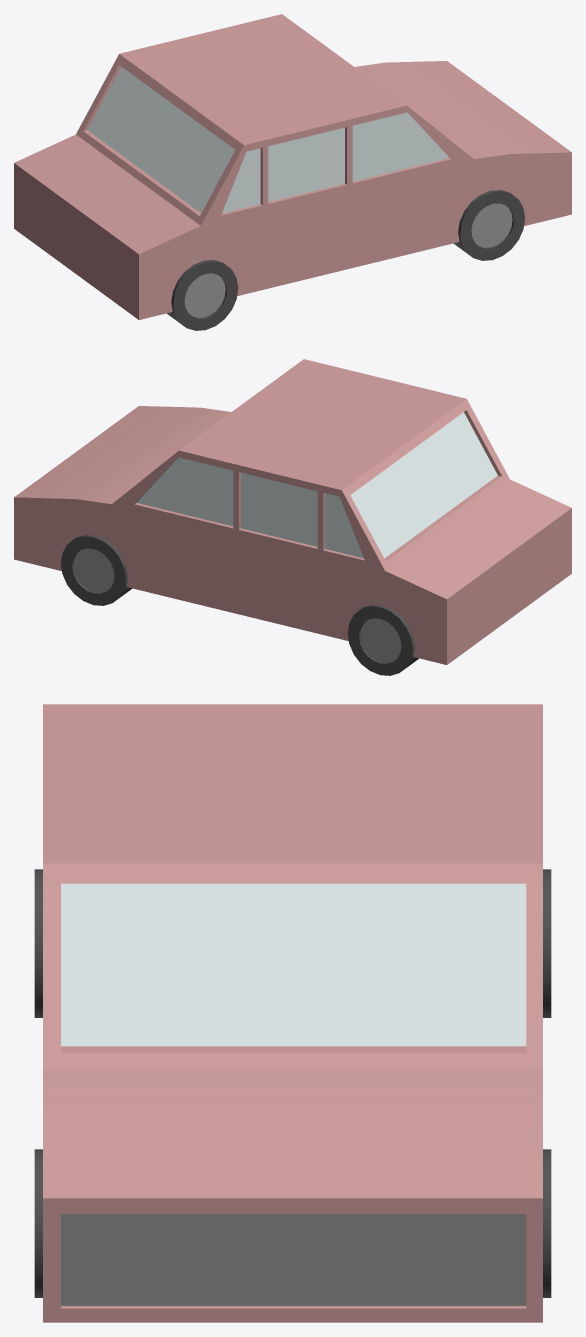
Rendered from little_car.fbx.
The picture shows the model from 3 angles, top to bottom: view 1: azimuth 30°, elevation 25°; view 2: azimuth 150°, elevation 25°; view 3: azimuth 270°, elevation 25°; orthographic projection. The views are drawn at different scales.
Visible parts, largest first — view 1: little_car; view 2: little_car; view 3: little_car.
Part boxes in pixels (x1,y1,x2,y2): little_car: (14, 14, 571, 330); little_car: (14, 359, 571, 675); little_car: (34, 704, 551, 1322).
Bounding box in the file's own units: 20 × 7.65 × 10.34.
